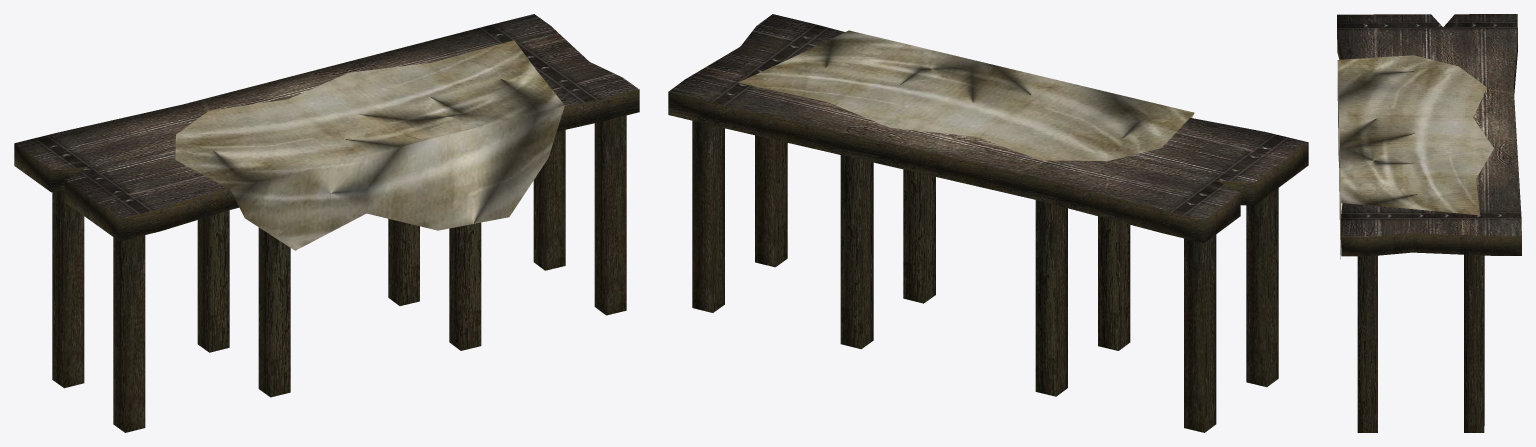
File: GS_MARKET_SHELF_02.glb
The picture shows the model from 3 angles, left to right: view 1: azimuth 30°, elevation 25°; view 2: azimuth 150°, elevation 25°; view 3: azimuth 270°, elevation 25°; orthographic projection. The views are drawn at different scales.
Visible parts, largest first — view 1: Mesh; view 2: Mesh; view 3: Mesh.
Part boxes in pixels (bbox=[...]): Mesh: bbox=[14, 14, 639, 432]; Mesh: bbox=[668, 14, 1308, 432]; Mesh: bbox=[1337, 14, 1521, 432].
Bounding box in the file's own units: 3.48 × 1.45 × 1.22.
3 materials, 3 textured.
